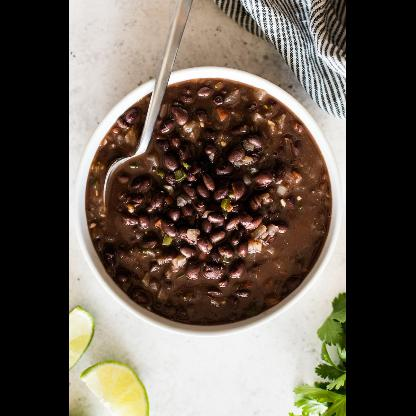black beans: (88, 78, 334, 328)
